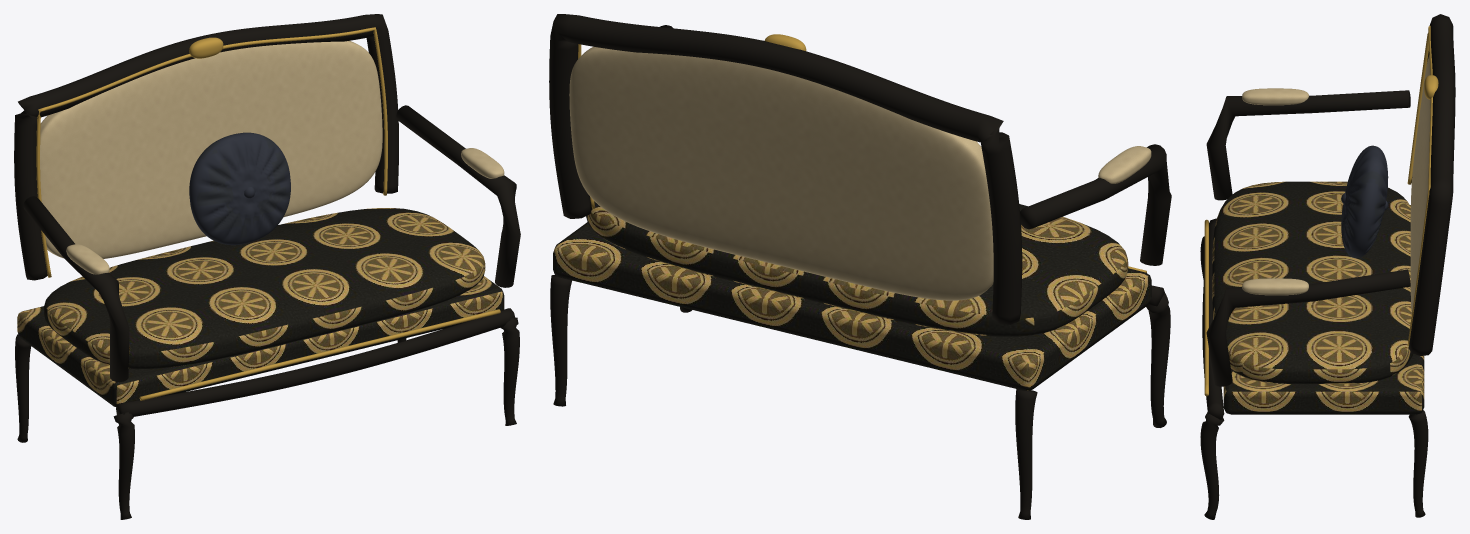
Rendered from talat-royal-tea-set--sofa2.glb.
The picture shows the model from 3 angles, left to right: view 1: azimuth 30°, elevation 25°; view 2: azimuth 150°, elevation 25°; view 3: azimuth 270°, elevation 25°; orthographic projection. The views are drawn at different scales.
Parts seen in each view (by area): view 1: back, seat, backframe, seatbox, roundpillow, apron, arm1, arm-1, backgold, seatgold, legf0, legf1 (+4 smaller); view 2: back, seatbox, backframe, seat, arm-1, legf0, legb-1, legb1, armpad-1; view 3: seat, backframe, seatbox, arm-1, arm1, roundpillow, back, legf1, legb1, backgold, apron, armpad1 (+2 smaller).
Boxes of the visible parts, x1=… form: back: x1=40, y1=40, x2=382, y2=258; seat: x1=44, y1=208, x2=485, y2=369; backframe: x1=14, y1=14, x2=398, y2=280; seatbox: x1=17, y1=276, x2=504, y2=406; roundpillow: x1=189, y1=132, x2=290, y2=245; apron: x1=116, y1=308, x2=515, y2=416; arm1: x1=396, y1=105, x2=520, y2=287; arm-1: x1=23, y1=196, x2=129, y2=382; backgold: x1=36, y1=27, x2=387, y2=277; seatgold: x1=139, y1=309, x2=500, y2=400; legf0: x1=113, y1=412, x2=134, y2=519; legf1: x1=500, y1=317, x2=519, y2=425; back: x1=569, y1=46, x2=993, y2=300; seatbox: x1=553, y1=222, x2=1151, y2=390; backframe: x1=549, y1=14, x2=1022, y2=324; seat: x1=586, y1=201, x2=1128, y2=336; arm-1: x1=1020, y1=144, x2=1171, y2=265; legf0: x1=1146, y1=293, x2=1170, y2=427; legb-1: x1=1015, y1=389, x2=1037, y2=519; legb1: x1=550, y1=275, x2=571, y2=406; armpad-1: x1=1098, y1=146, x2=1151, y2=183; seat: x1=1212, y1=181, x2=1412, y2=383; backframe: x1=1408, y1=14, x2=1455, y2=355; seatbox: x1=1223, y1=205, x2=1424, y2=414; arm-1: x1=1206, y1=90, x2=1410, y2=200; arm1: x1=1206, y1=269, x2=1410, y2=386; roundpillow: x1=1341, y1=145, x2=1388, y2=258; back: x1=1410, y1=55, x2=1430, y2=313; legf1: x1=1200, y1=411, x2=1224, y2=519; legb1: x1=1408, y1=410, x2=1428, y2=517; backgold: x1=1407, y1=26, x2=1432, y2=345; apron: x1=1202, y1=218, x2=1224, y2=419; armpad1: x1=1242, y1=278, x2=1308, y2=295.
Bounding box in the file's own units: 1.28 × 1.03 × 0.6864.
Materials: 5 (3 with a texture image).
